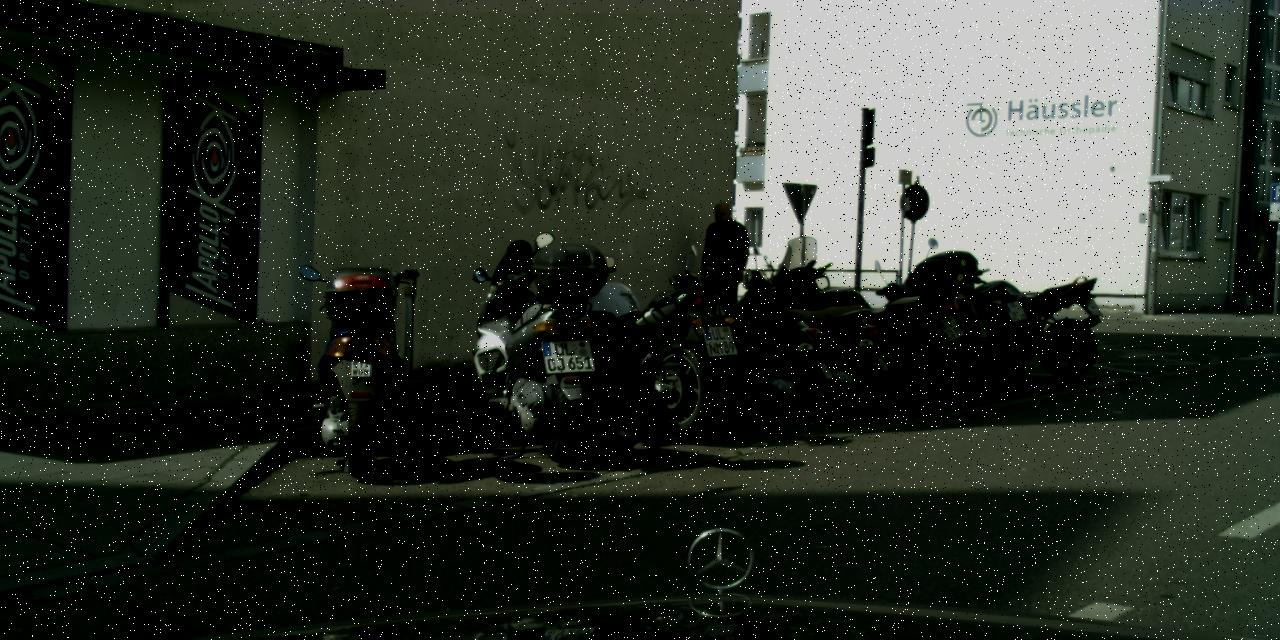ped: (693, 201, 751, 344)
